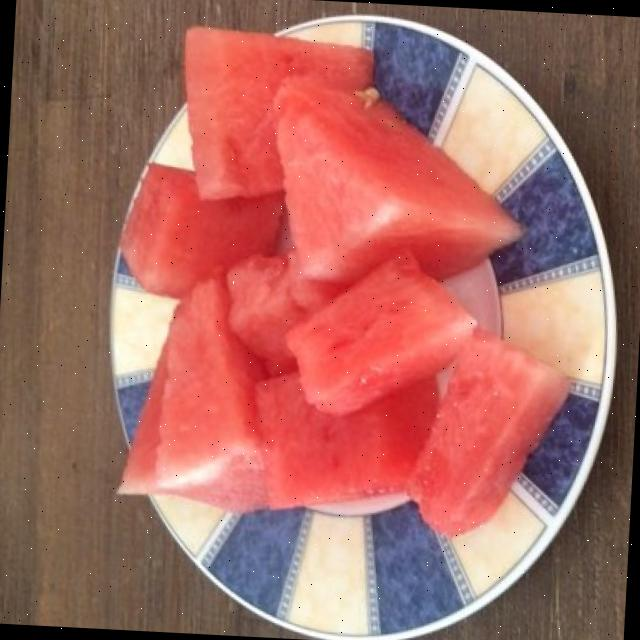watermelon-fresh: (127, 31, 561, 529)
